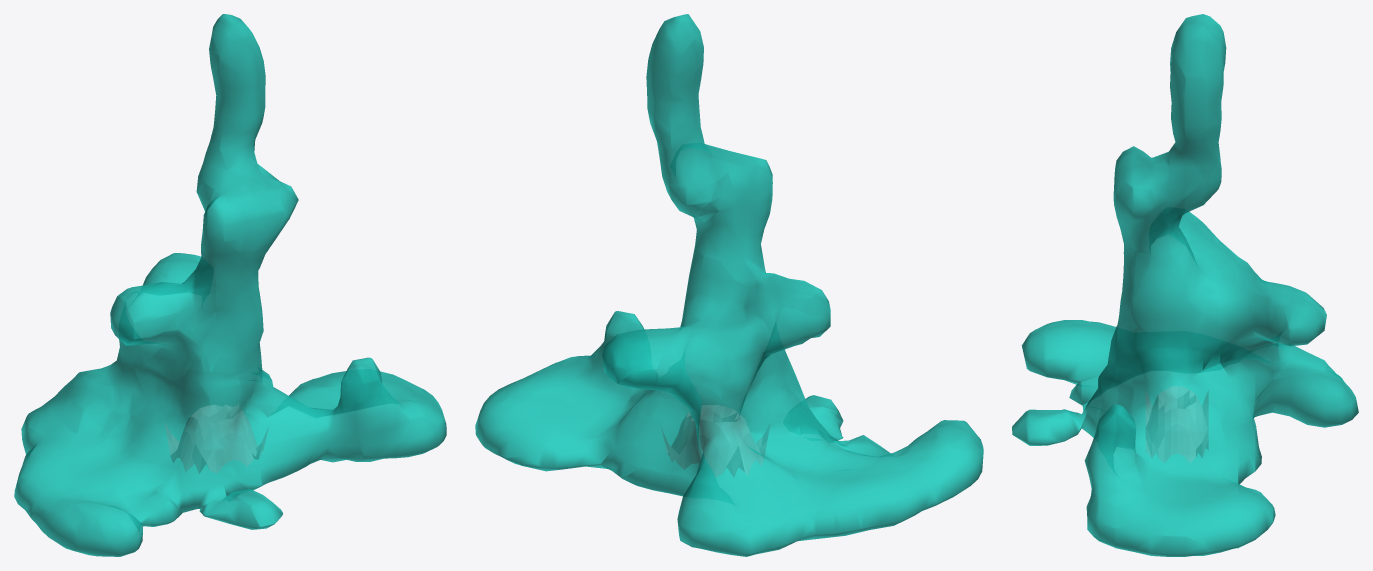
3 renders of one model, left to right at view 1: azimuth 30°, elevation 25°; view 2: azimuth 150°, elevation 25°; view 3: azimuth 270°, elevation 25°, orthographic. The views are drawn at different scales.
Visible parts, largest first — view 1: Liquid_Domain, グリッド; view 2: Liquid_Domain, グリッド; view 3: Liquid_Domain, グリッド.
Boxes of the visible parts, box(x1,y1,x2,y2) form: Liquid_Domain: box(14, 14, 446, 556); グリッド: box(165, 403, 268, 473); Liquid_Domain: box(475, 14, 983, 556); グリッド: box(661, 405, 769, 476); Liquid_Domain: box(1012, 14, 1358, 556); グリッド: box(1146, 386, 1208, 462).
Size of the model in its own units: 2.38 by 2.4 by 1.65.
